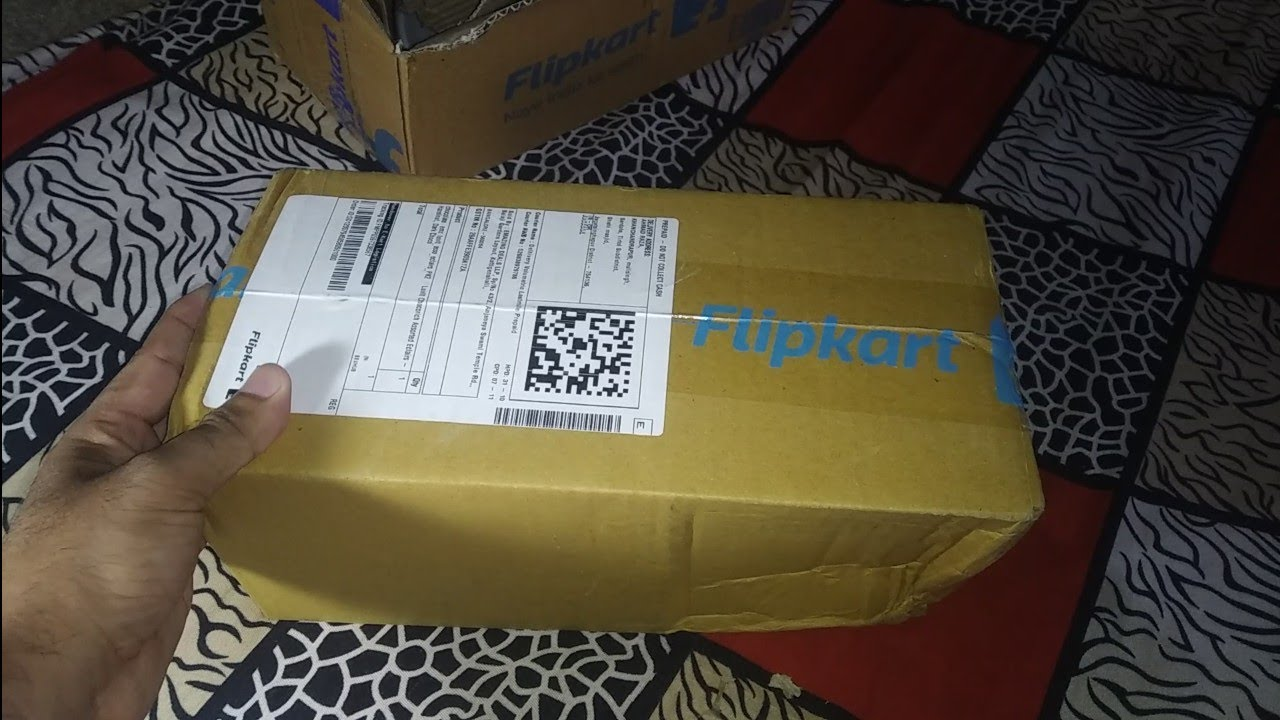QRCode: (229, 228, 696, 413)
